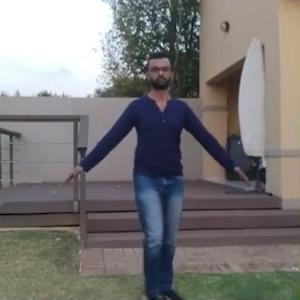land: (62, 61, 229, 296)
